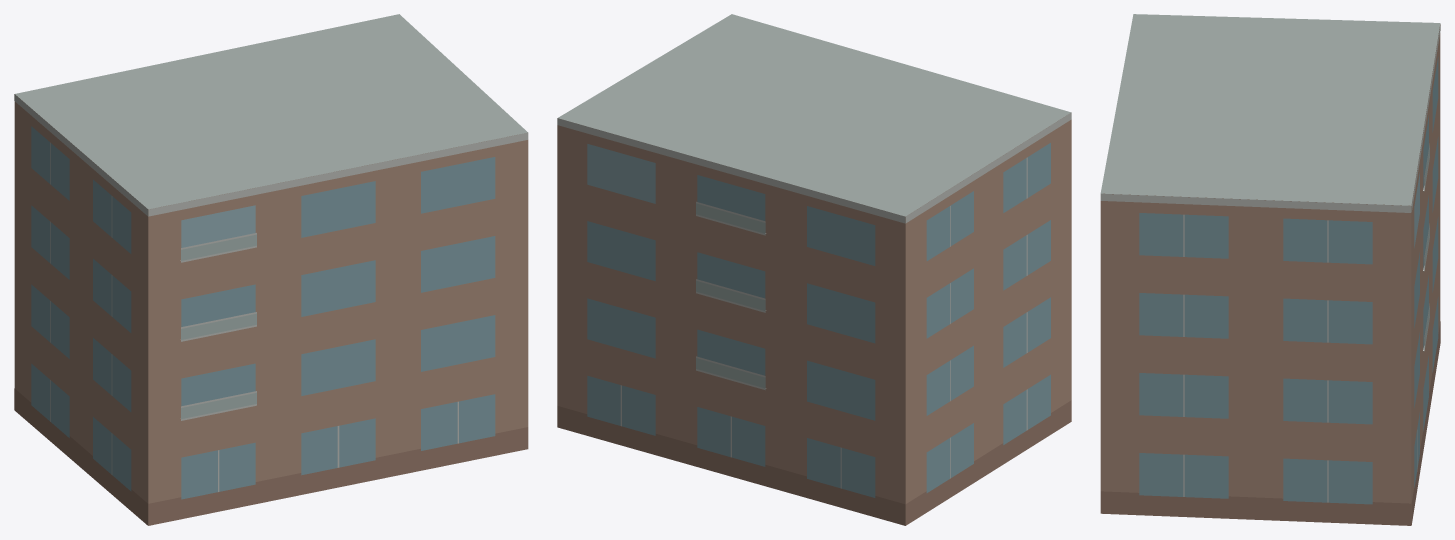
File: survey-upis-32994688.glb
3 renders of one model, left to right at view 1: azimuth 30°, elevation 25°; view 2: azimuth 150°, elevation 25°; view 3: azimuth 270°, elevation 25°, orthographic. The views are drawn at different scales.
Visible parts, largest first — view 1: survey-upis-32994688.tmp; view 2: survey-upis-32994688.tmp; view 3: survey-upis-32994688.tmp.
Part boxes in pixels (<box>): survey-upis-32994688.tmp: <box>14,14,528,525</box>; survey-upis-32994688.tmp: <box>557,14,1071,525</box>; survey-upis-32994688.tmp: <box>1100,14,1440,525</box>.
Bounding box in the file's own units: 13.83 × 10.75 × 10.36.
